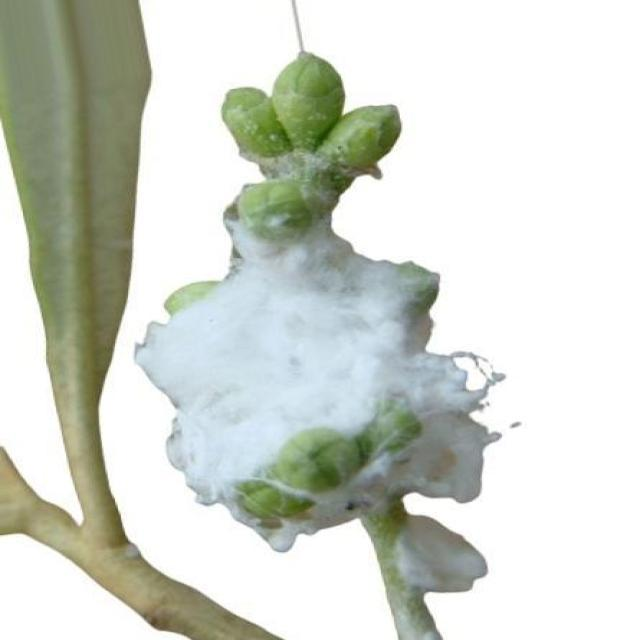Psyllid: (135, 182, 519, 554), (388, 511, 486, 639)
